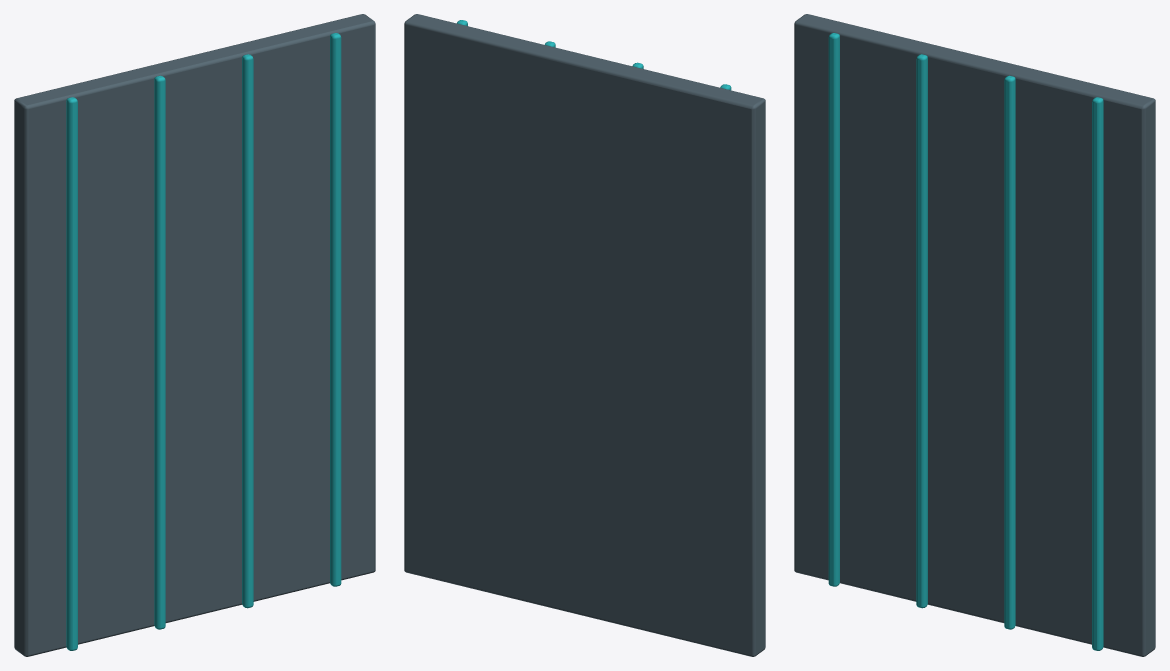
Rendered from MOD_Panel_Metal_01.glb.
The picture shows the model from 3 angles, left to right: view 1: azimuth 30°, elevation 25°; view 2: azimuth 150°, elevation 25°; view 3: azimuth 330°, elevation 25°; orthographic projection.
Parts seen in each view (by area): view 1: MOD_Panel_Metal_01; view 2: MOD_Panel_Metal_01; view 3: MOD_Panel_Metal_01.
Part boxes in pixels (x1,y1,x2,y2): MOD_Panel_Metal_01: (14, 14, 375, 656); MOD_Panel_Metal_01: (404, 14, 765, 656); MOD_Panel_Metal_01: (794, 14, 1155, 656).
Bounding box in the file's own units: 2 × 3 × 0.175.
